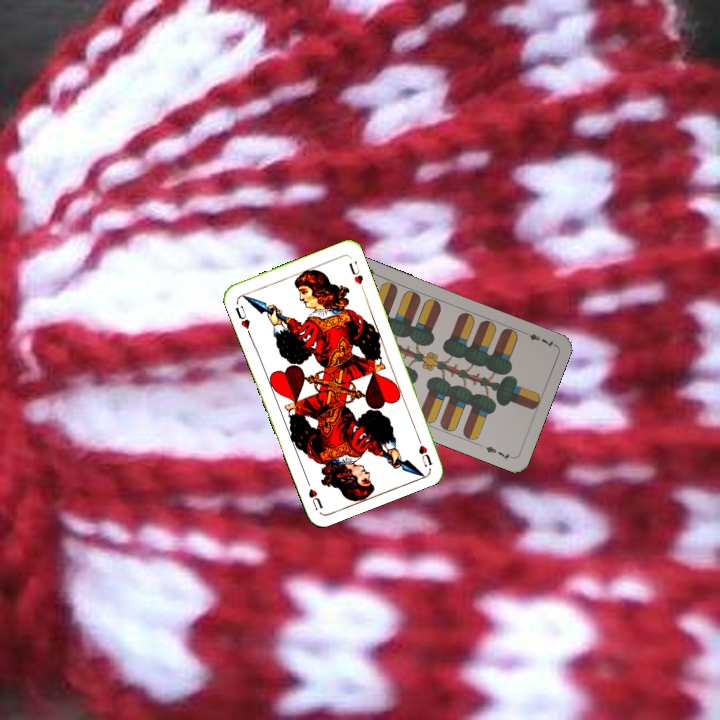E7: (518, 327, 557, 350)
HU: (412, 430, 435, 470), (231, 301, 253, 337)
